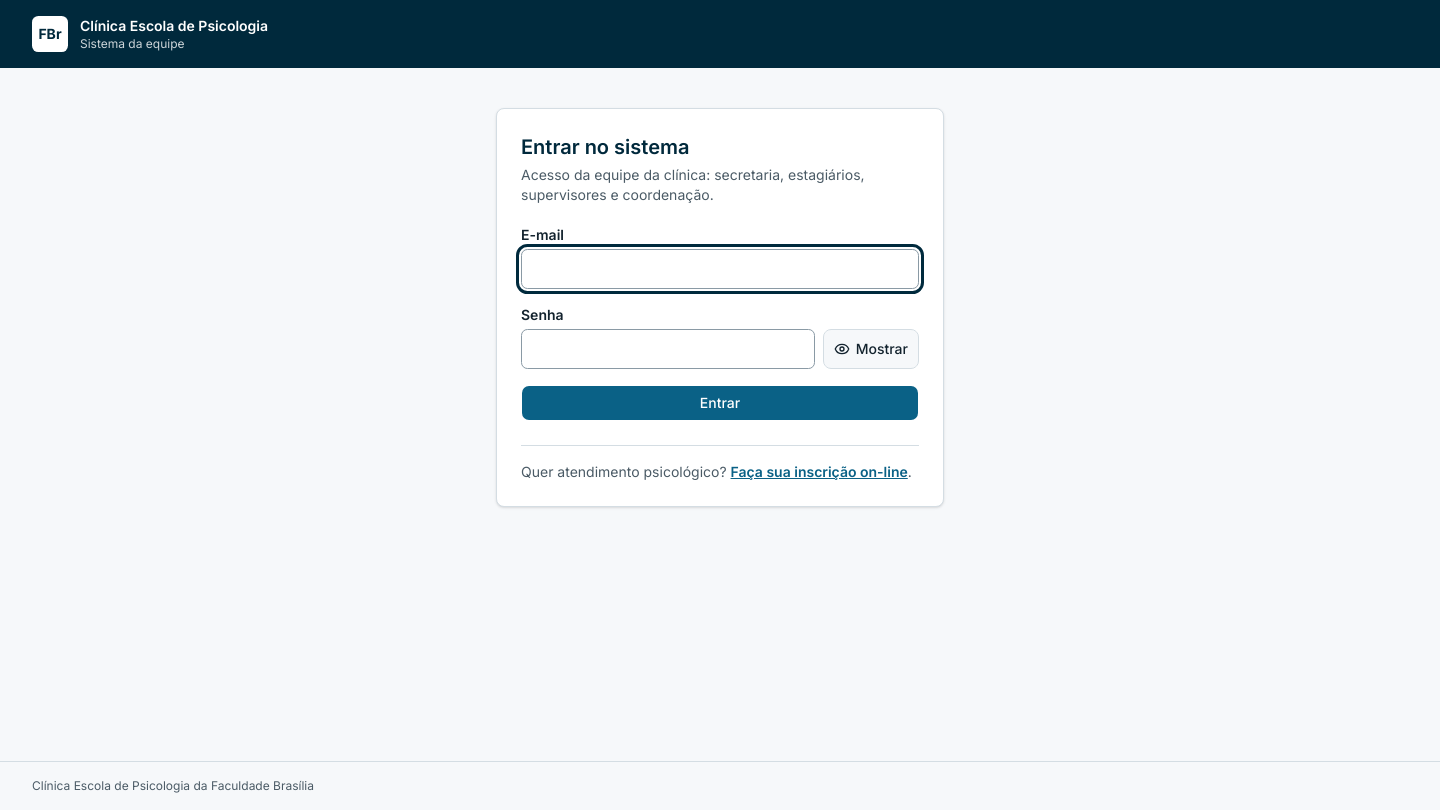
Test: Entrar no sistema (RF50) › no bloqueio, informa o horário e desativa o botão até lá (RNF49)
Step 1. Type "ana@fbr.edu.br" into the field labelled "E-mail" → (720, 269), box left=521, top=249, right=919, bottom=289
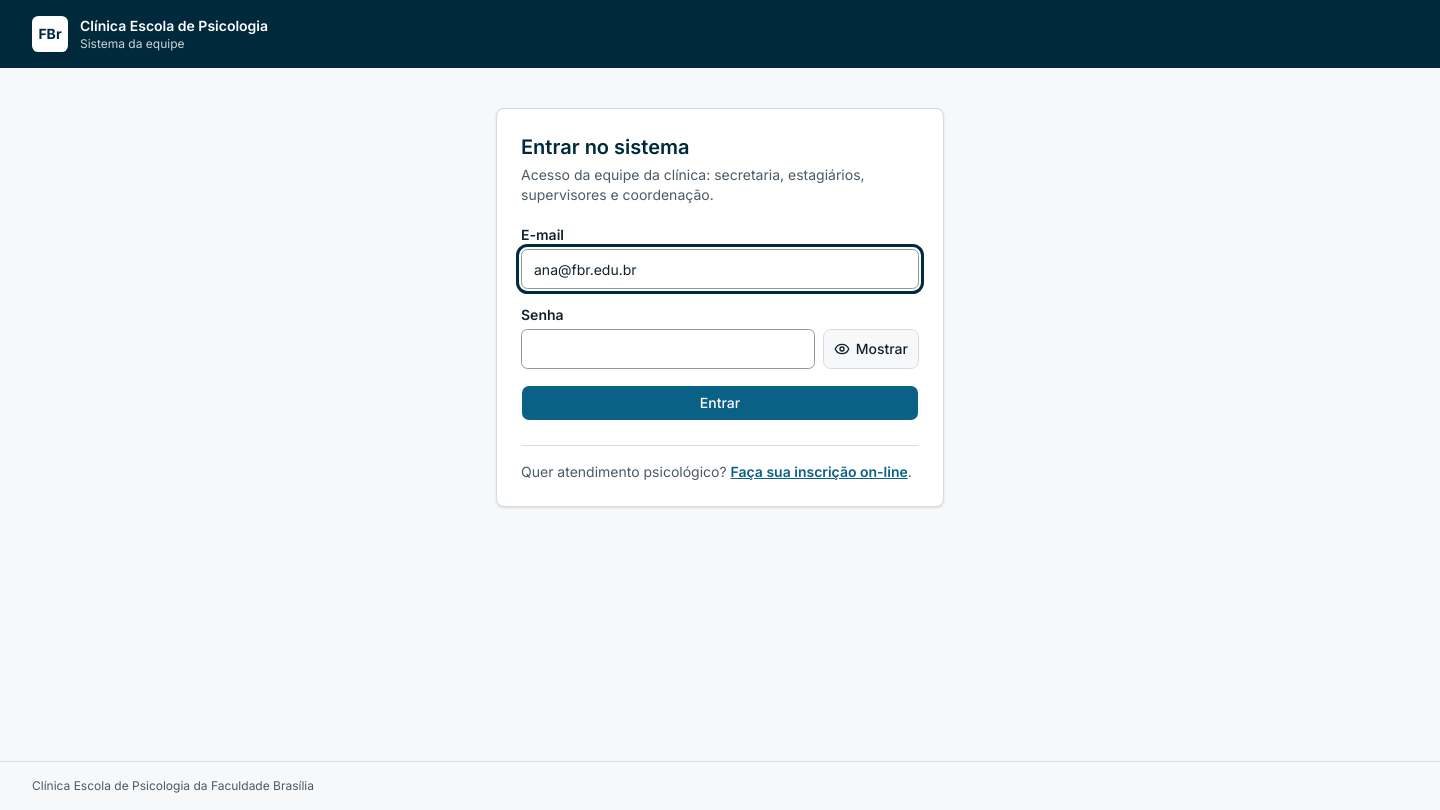
Step 2. Type "senha1234" into the password field labelled "Senha" → (668, 349), box left=521, top=329, right=815, bottom=369
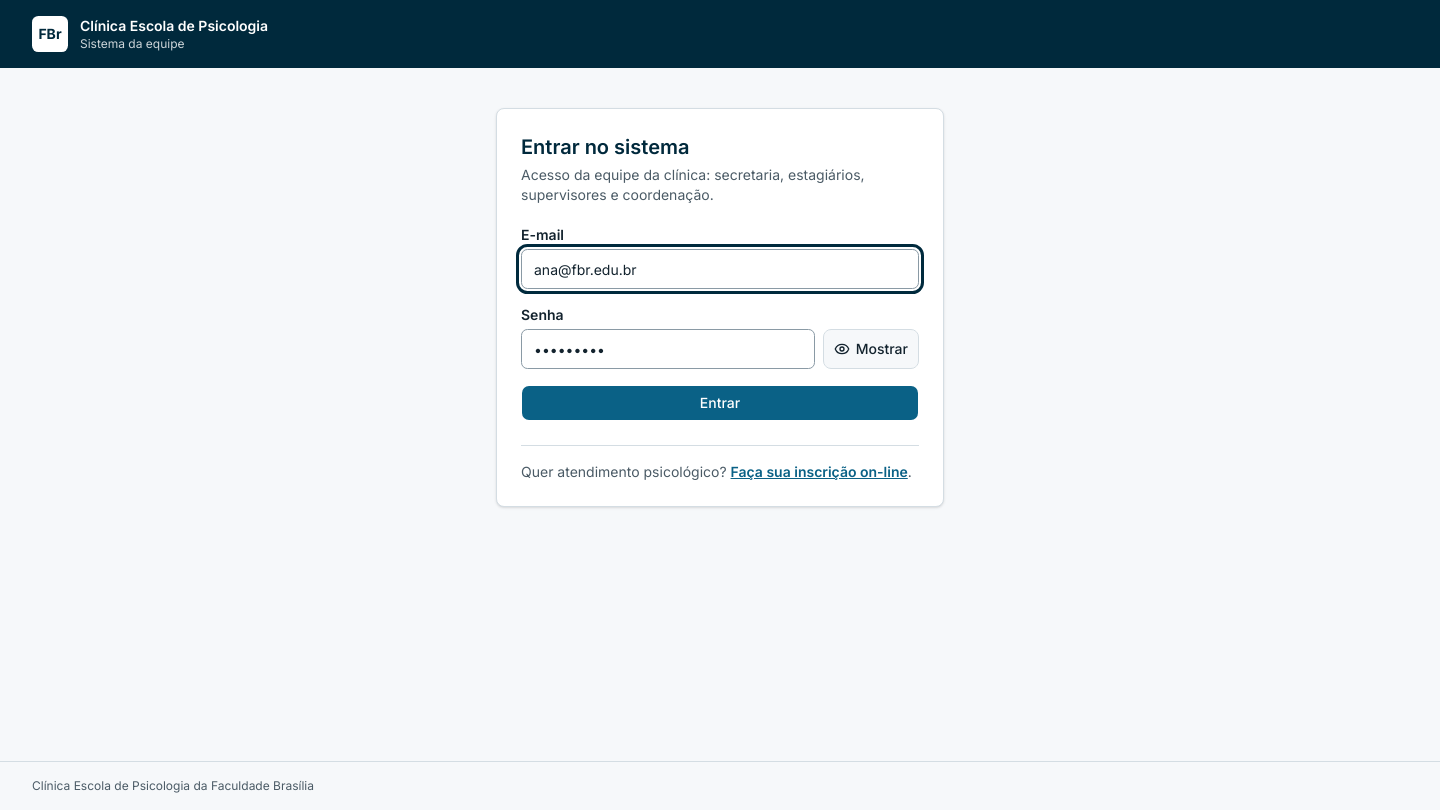
Step 3. Click the button "Entrar" → click(720, 403), box left=521, top=385, right=919, bottom=421
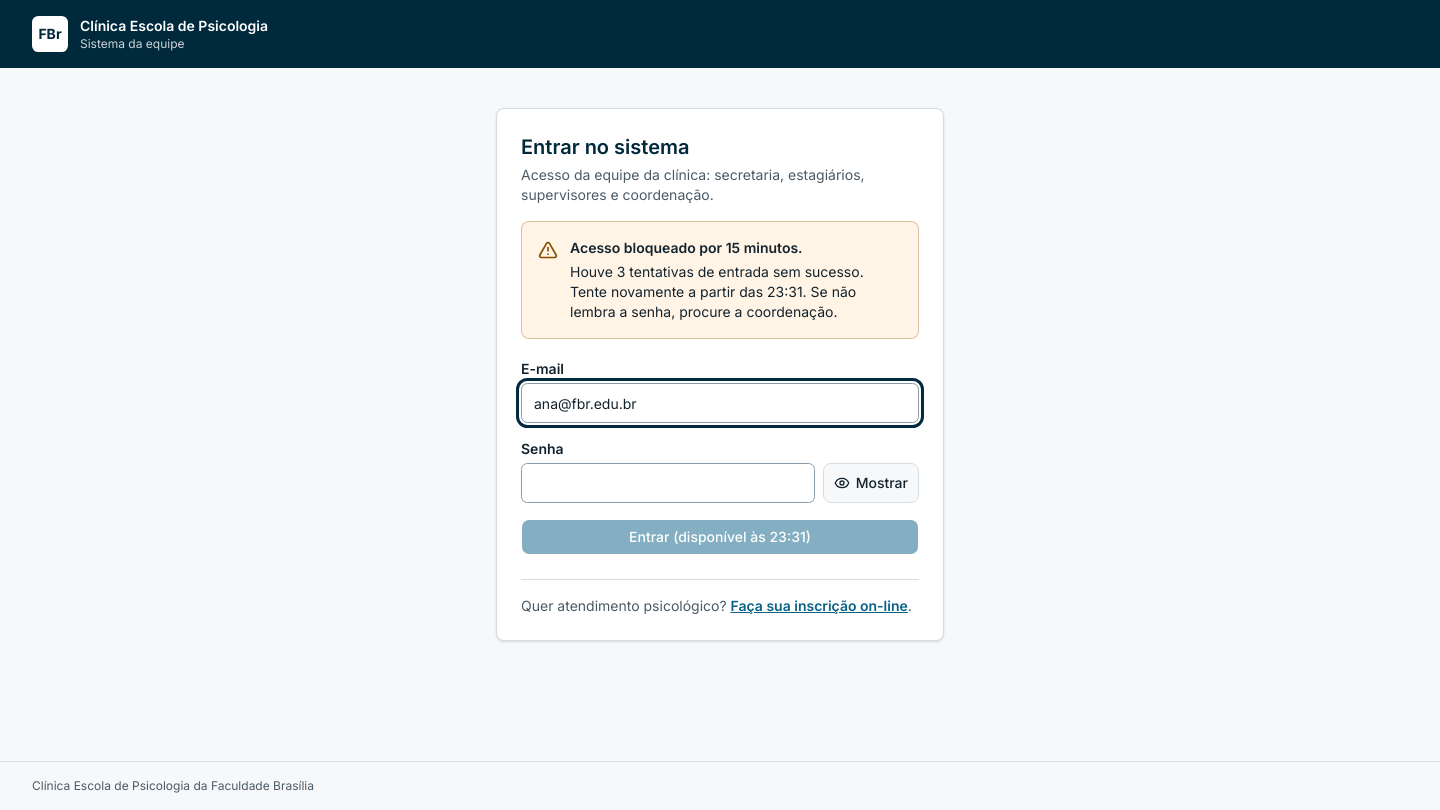
Check: the text "Acesso bloqueado por 15 minutos." is shown, box left=570, top=239, right=803, bottom=256
